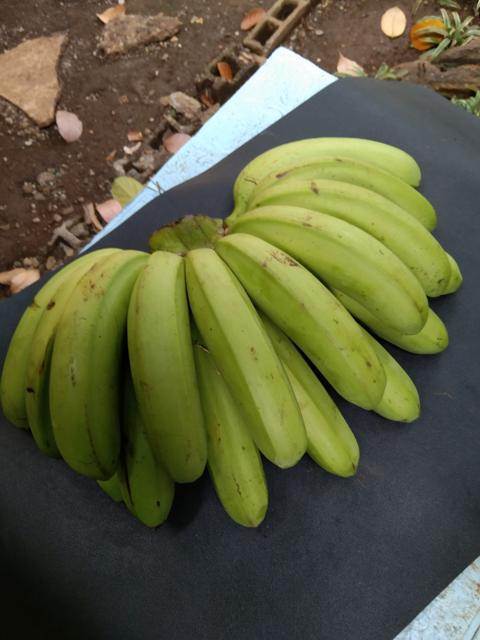freshunripe: (222, 229, 397, 404), (181, 243, 308, 472), (240, 206, 433, 342), (118, 250, 216, 483), (282, 365, 364, 481), (207, 424, 277, 535), (373, 333, 430, 427)
unripe: (34, 244, 146, 486), (243, 173, 460, 293), (228, 133, 431, 202), (102, 420, 178, 529)
